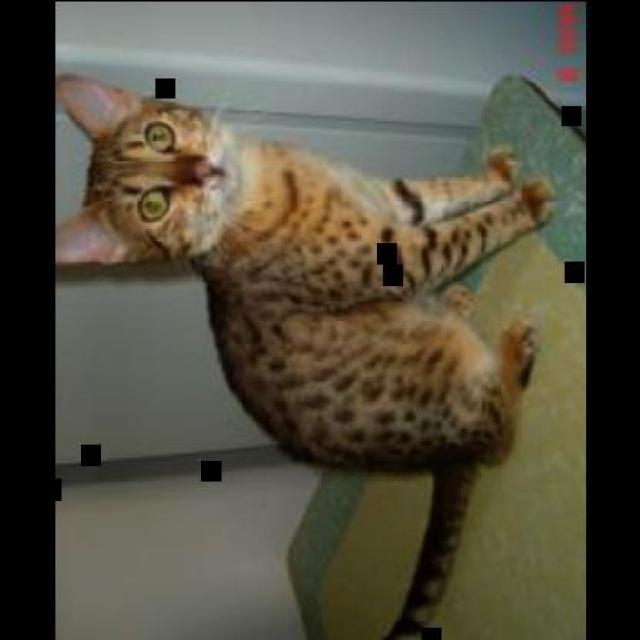unauthorized: (54, 71, 555, 638)
